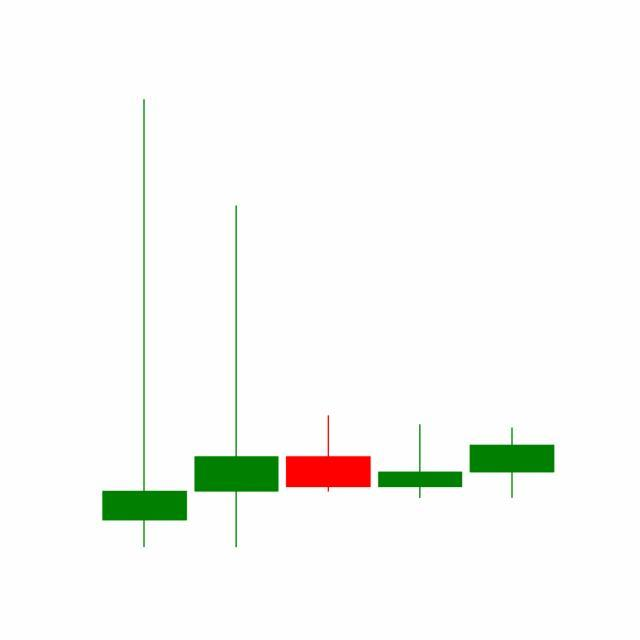Gravestone Doji: (374, 424, 468, 501)
